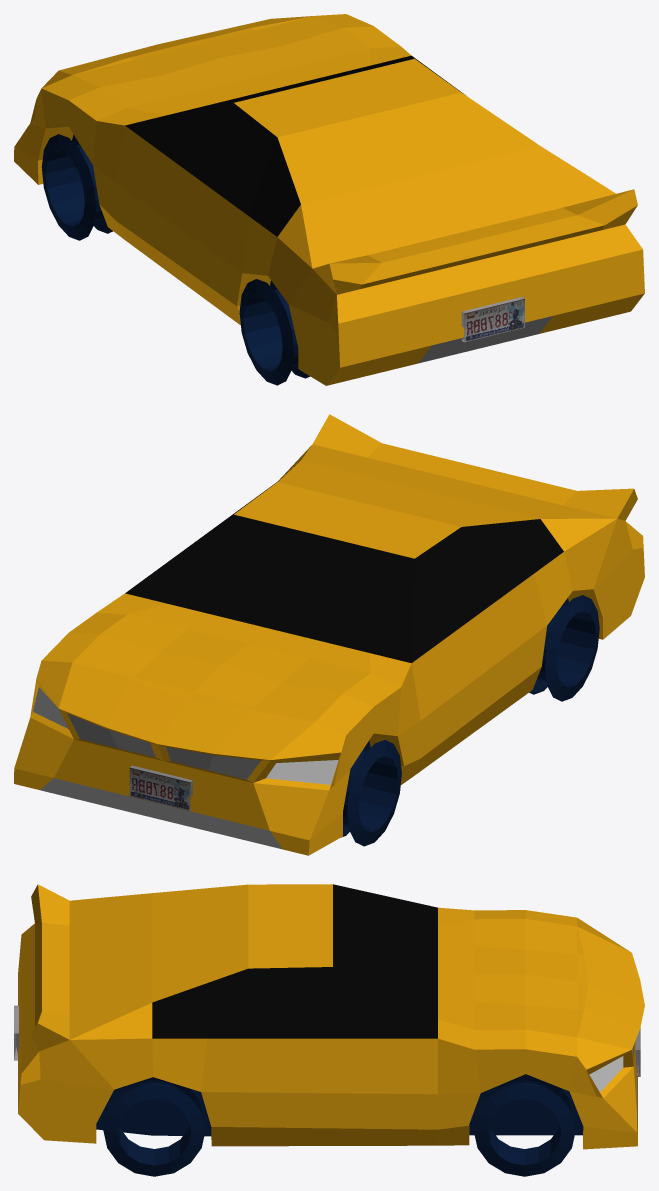
File: coche_VELOZ.fbx
3 renders of one model, top to bottom at view 1: azimuth 30°, elevation 25°; view 2: azimuth 150°, elevation 25°; view 3: azimuth 270°, elevation 25°, orthographic. The views are drawn at different scales.
Visible parts, largest first — view 1: Cube; view 2: Cube; view 3: Cube.
Boxes of the visible parts, x1,y1,x2,y2 form: Cube: (14,14,644,385); Cube: (14,414,644,855); Cube: (14,884,644,1176).
Size of the model in its own units: 239 by 141 by 445.
